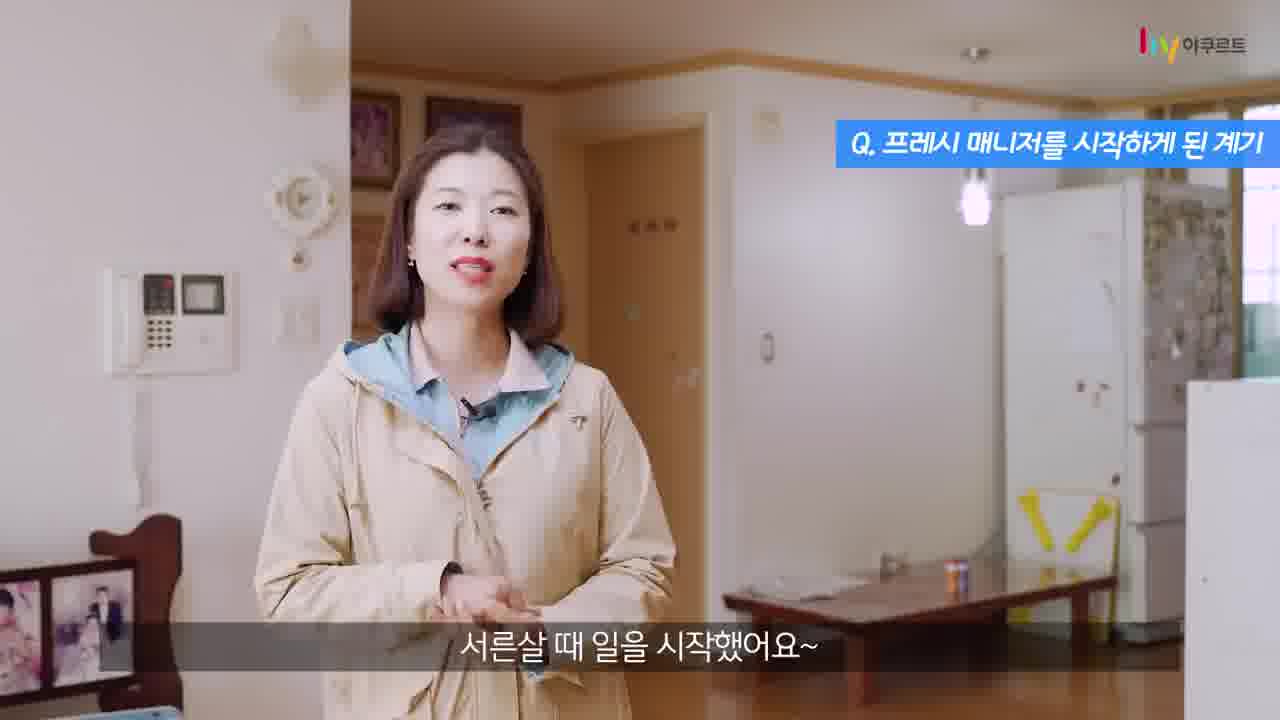Yakurut: (211, 109, 708, 720)
